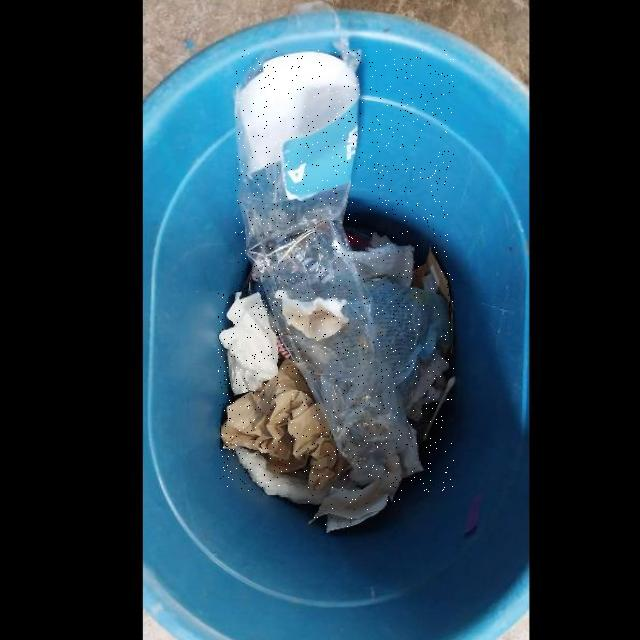paper: (221, 358, 352, 491), (219, 291, 279, 395), (308, 473, 401, 533)
plastic: (236, 49, 454, 492)
